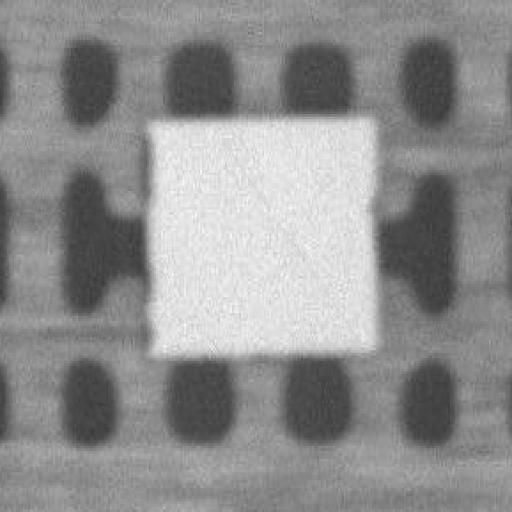DIE_CRACK: (331, 93, 512, 225)
